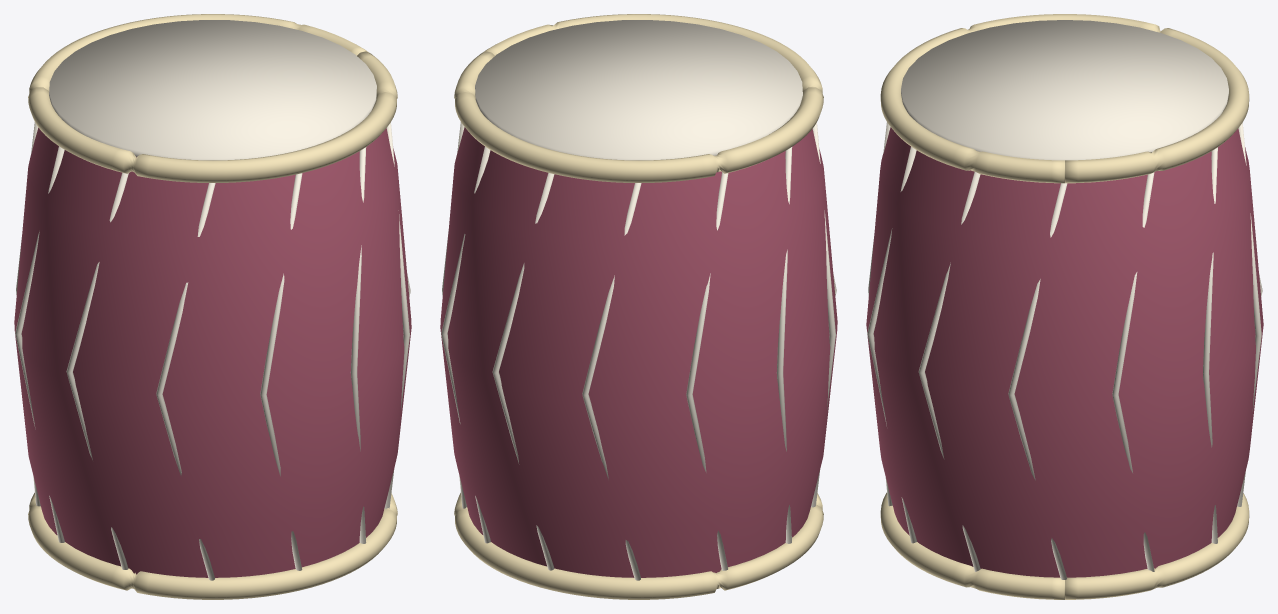
File: festive-dhol.glb
3 renders of one model, left to right at view 1: azimuth 30°, elevation 25°; view 2: azimuth 150°, elevation 25°; view 3: azimuth 270°, elevation 25°, orthographic.
Parts seen in each view (by area): view 1: drum-0, skin-1, rims-2, cords-3; view 2: drum-0, skin-1, rims-2, cords-3; view 3: drum-0, skin-1, rims-2, cords-3.
Part boxes in pixels (x1,y1,x2,y2): drum-0: (14,127,411,577); skin-1: (49,20,376,160); rims-2: (28,14,397,599); cords-3: (15,122,410,580); drum-0: (440,127,837,577); skin-1: (475,20,802,160); rims-2: (454,14,823,599); cords-3: (441,122,836,580); drum-0: (866,127,1263,577); skin-1: (901,20,1228,160); rims-2: (880,14,1249,599); cords-3: (867,122,1262,579).
Bounding box in the file's own units: 0.86 × 1.04 × 0.86.
